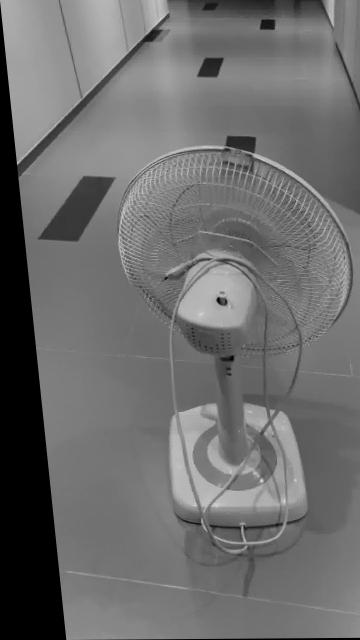Fan: (112, 147, 348, 534)
